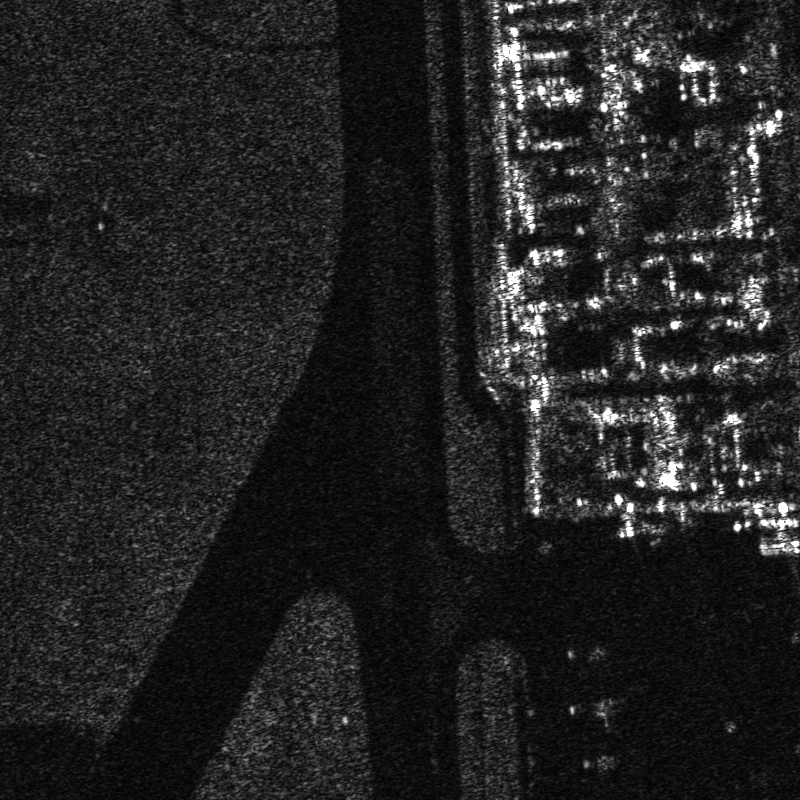ARJ21: (554, 688, 635, 739), (571, 742, 628, 783)
other: (562, 637, 618, 667)
